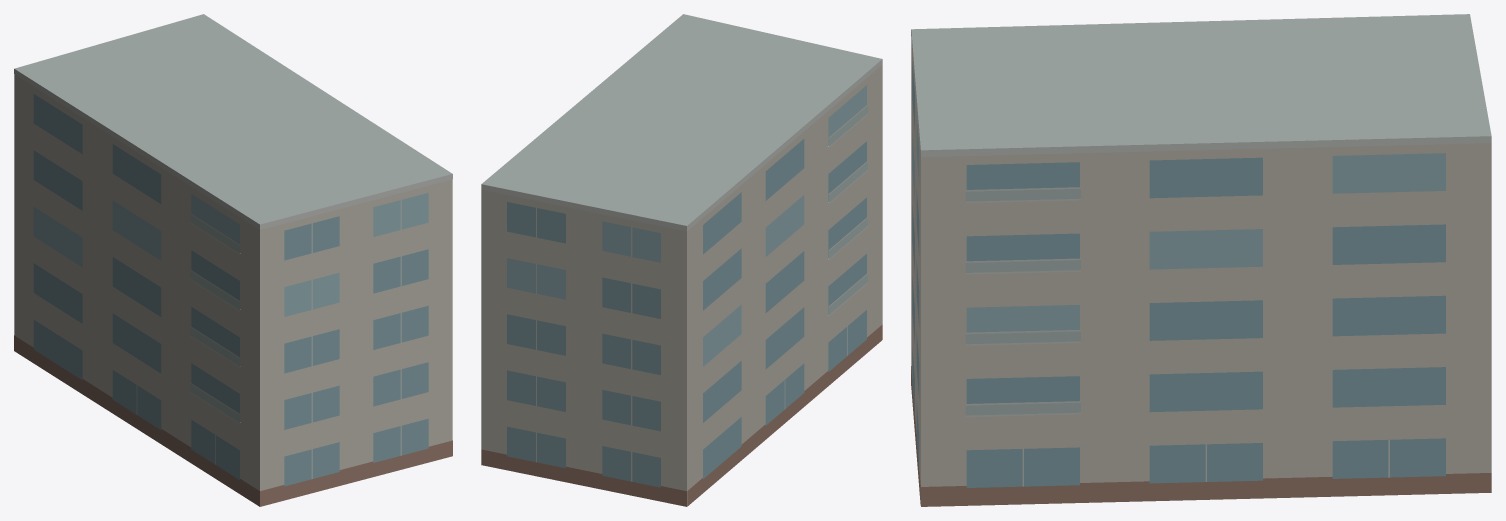
The model's file is survey-upis-32555824.glb.
3 renders of one model, left to right at view 1: azimuth 30°, elevation 25°; view 2: azimuth 150°, elevation 25°; view 3: azimuth 270°, elevation 25°, orthographic. The views are drawn at different scales.
Visible parts, largest first — view 1: survey-upis-32555824.tmp; view 2: survey-upis-32555824.tmp; view 3: survey-upis-32555824.tmp.
Boxes of the visible parts, bbox=[...] form: survey-upis-32555824.tmp: bbox=[14, 14, 452, 506]; survey-upis-32555824.tmp: bbox=[481, 14, 882, 506]; survey-upis-32555824.tmp: bbox=[911, 14, 1491, 506].
Bounding box in the file's own units: 10.3 × 12.55 × 18.52.
